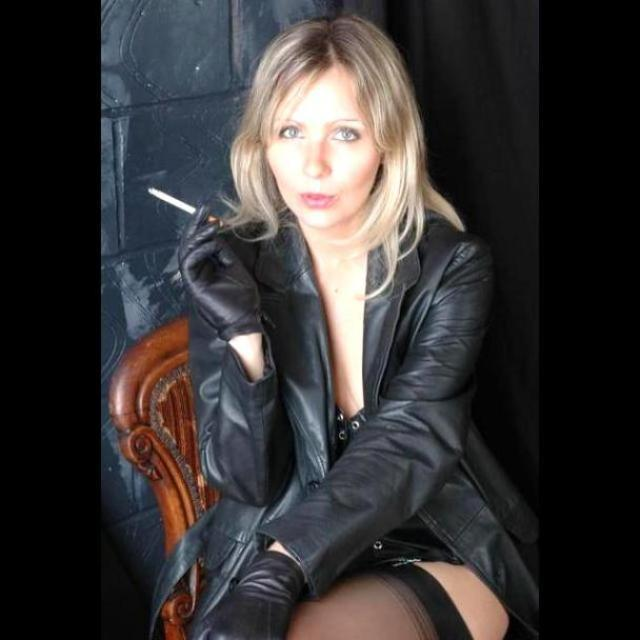rokok: (144, 182, 228, 230)
